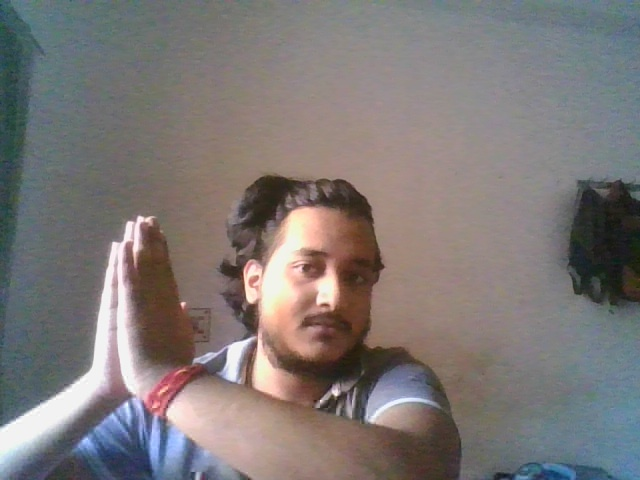ThankYou: (92, 214, 194, 376)
